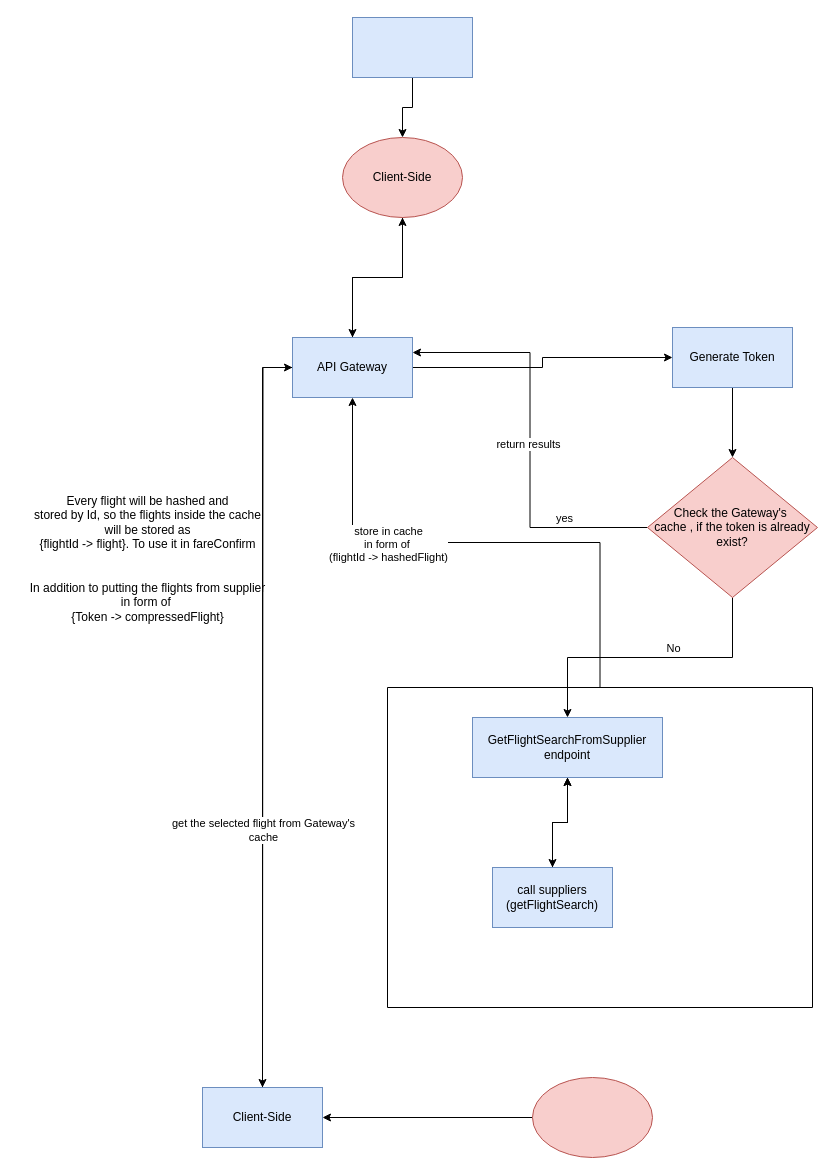
Image size: 835x1175. Some labels were removed from this diagram. Each missing label, with the box of its shape:
Select a flight to fareConfirm: (532, 1076, 652, 1158)
Server-Side: (386, 686, 812, 1008)
User search for a flight: (352, 16, 472, 78)
